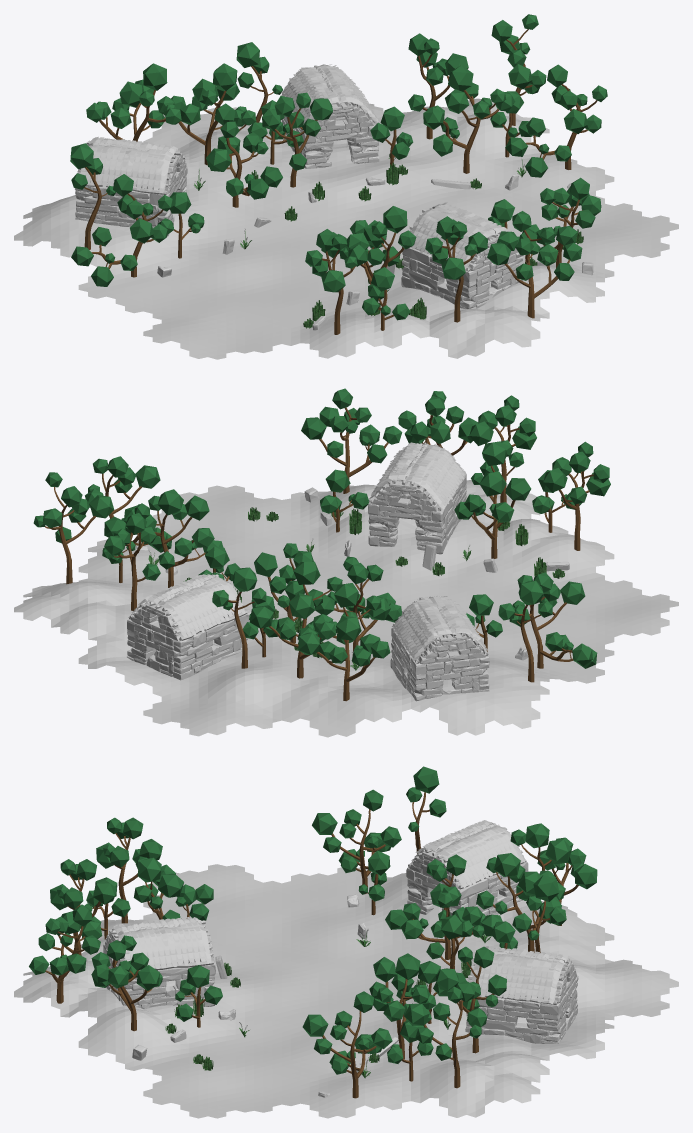
File: Village.fbx
3 renders of one model, top to bottom at view 1: azimuth 30°, elevation 25°; view 2: azimuth 150°, elevation 25°; view 3: azimuth 270°, elevation 25°, orthographic.
Visible parts, largest first — view 1: polySurface158, pSolid3 (×14), Blocks (×3), pSolid10 (×5), Thatch (×3), Core (×4), pSolid13 (×2); view 2: polySurface158, pSolid3 (×14), Blocks (×3), Thatch (×3), pSolid10 (×5), Core (×4), pSolid13 (×2), SecondBranch (×2), Second, First; view 3: polySurface158, pSolid3 (×14), Thatch (×3), Blocks (×3), pSolid10 (×5), pSolid13 (×2), Second (×2), Core (×2), SecondBranch.
Part boxes in pixels (<box>): polySurface158: <box>14,98,678,359</box>; pSolid3 (×14): <box>71,63,607,320</box>; Blocks (×3): <box>75,95,523,309</box>; pSolid10 (×5): <box>262,14,546,292</box>; Thatch (×3): <box>80,64,510,269</box>; Core (×4): <box>99,90,570,318</box>; pSolid13 (×2): <box>70,42,282,195</box>; polySurface158: <box>14,480,678,737</box>; pSolid3 (×14): <box>85,388,597,668</box>; Blocks (×3): <box>127,474,489,701</box>; Thatch (×3): <box>131,442,487,661</box>; pSolid10 (×5): <box>33,395,610,607</box>; Core (×4): <box>154,407,515,701</box>; pSolid13 (×2): <box>212,567,552,623</box>; SecondBranch (×2): <box>45,471,593,584</box>; Second: <box>529,596,573,668</box>; First: <box>114,532,145,610</box>; polySurface158: <box>14,864,678,1118</box>; pSolid3 (×14): <box>29,789,597,1074</box>; Thatch (×3): <box>112,820,571,1004</box>; Blocks (×3): <box>103,847,578,1043</box>; pSolid10 (×5): <box>50,817,506,1060</box>; pSolid13 (×2): <box>406,766,566,940</box>; Second (×2): <box>322,809,385,1098</box>; Core (×2): <box>45,926,152,1031</box>; SecondBranch: <box>424,1000,469,1088</box>.
Size of the model in its own units: 56.02 by 13.82 by 62.35.
